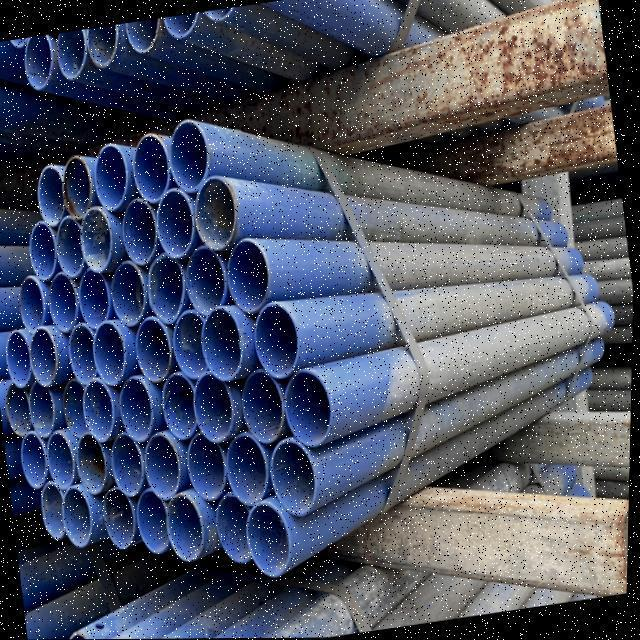pipe: (243, 494, 307, 588), (278, 364, 342, 453), (266, 434, 328, 524), (188, 303, 252, 387), (248, 298, 310, 384), (210, 491, 268, 576), (70, 317, 136, 390), (188, 175, 246, 258), (220, 428, 278, 511), (220, 235, 278, 318), (33, 156, 96, 230), (236, 368, 291, 448), (164, 119, 218, 200), (190, 370, 245, 448), (64, 208, 122, 280), (183, 428, 236, 506), (164, 489, 216, 566), (134, 485, 185, 563), (142, 430, 194, 506), (183, 244, 235, 320), (152, 188, 202, 265), (144, 252, 194, 329), (129, 130, 178, 208), (29, 158, 77, 234), (156, 371, 204, 446), (105, 260, 155, 332), (131, 314, 180, 386), (118, 197, 166, 270), (114, 376, 164, 446), (56, 480, 106, 550), (75, 376, 124, 447), (104, 428, 152, 500), (92, 142, 138, 216), (170, 308, 216, 382), (76, 262, 122, 336), (56, 154, 102, 228), (43, 270, 93, 338), (13, 270, 59, 342), (58, 374, 102, 448), (100, 482, 146, 552), (31, 482, 80, 544), (0, 377, 42, 447), (26, 218, 69, 285), (42, 426, 84, 492), (2, 322, 37, 400), (24, 374, 64, 442), (17, 426, 57, 494), (27, 322, 68, 388), (76, 432, 120, 493), (122, 19, 170, 60), (25, 35, 56, 91), (59, 30, 89, 82), (88, 20, 121, 67), (67, 624, 105, 640), (97, 628, 138, 640)
